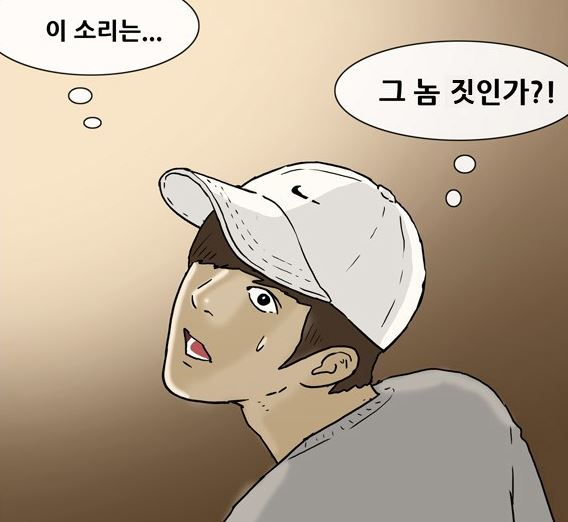hat: (155, 155, 430, 348)
